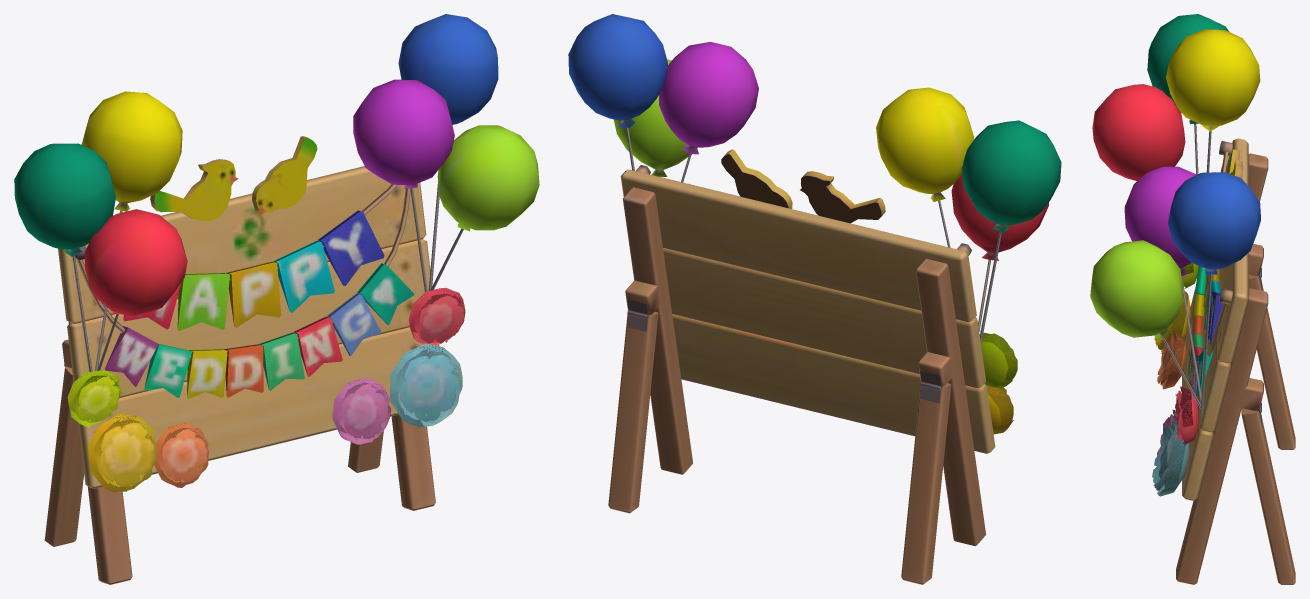
3 views of the same model, side by side, from view 1: azimuth 30°, elevation 25°; view 2: azimuth 150°, elevation 25°; view 3: azimuth 270°, elevation 25° (orthographic). The views are drawn at different scales.
Size of the model in its own units: 19.32 by 17.85 by 7.78.
Materials: 1 (1 with a texture image).
